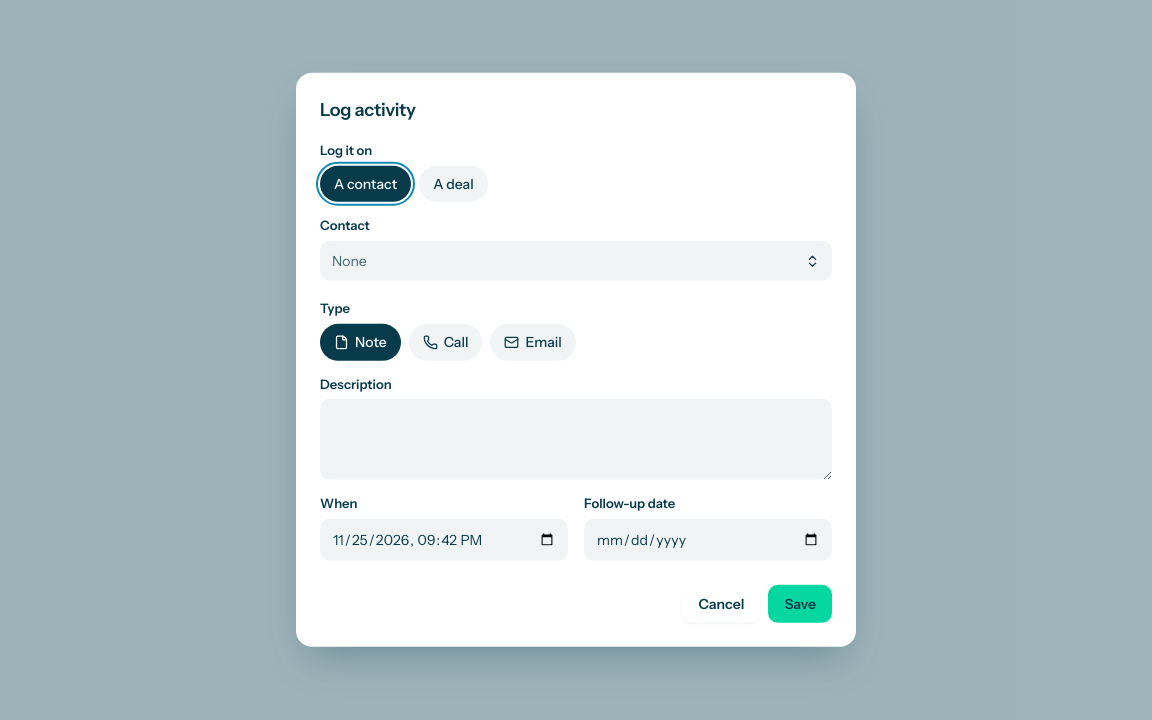
Test case: logging an activity from the dashboard › logs it on the chosen contact and closes
Step 1. Click the button "Save" → (800,604), box [768,585,832,623]
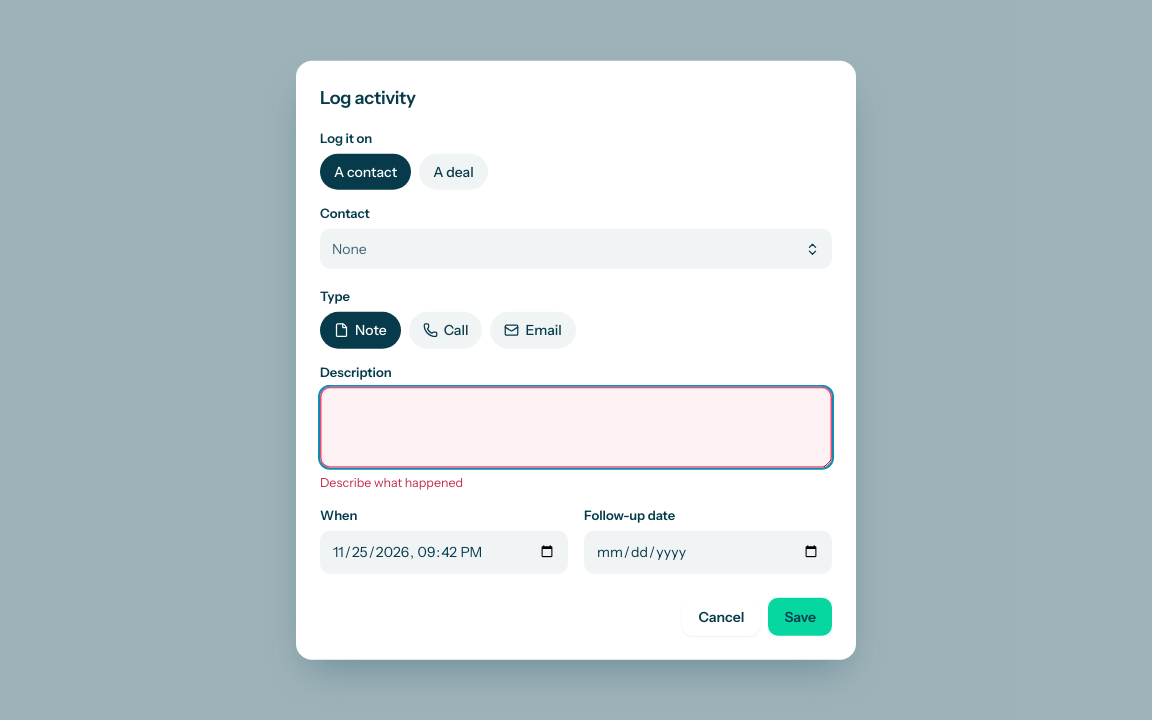
Step 2. Click the button named "Contact" → (349,249), box [320,229,832,269]
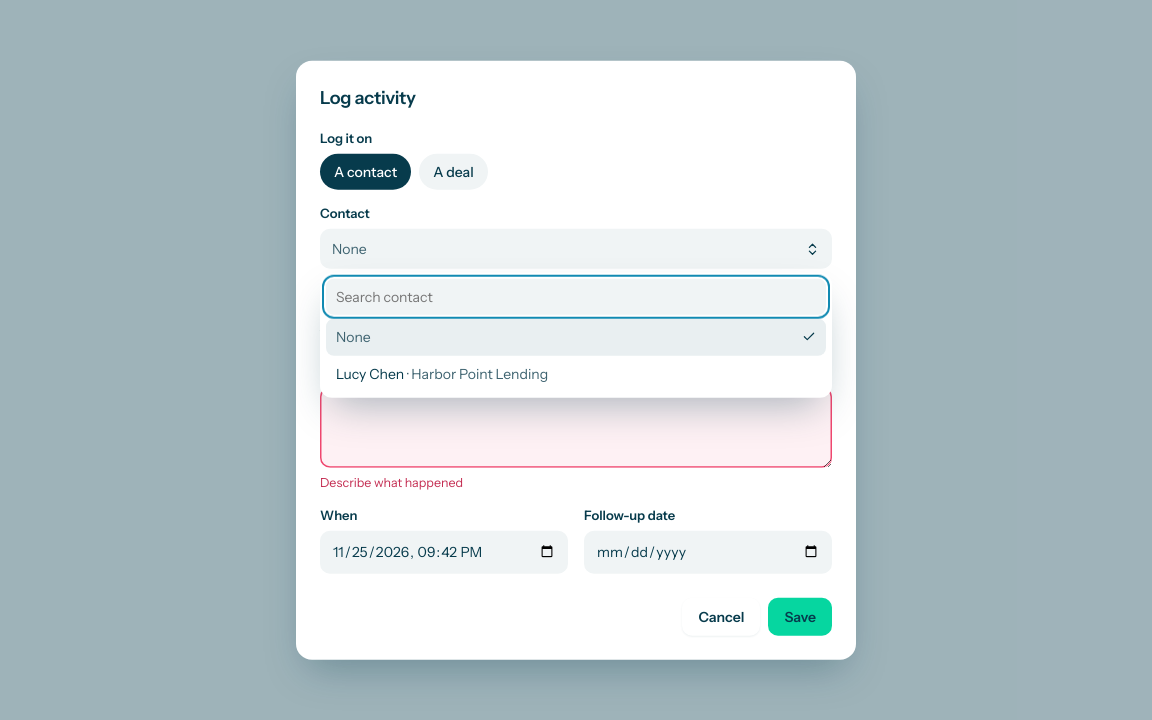
Step 3. Click the option "Lucy Chen · Harbor Point Lending" → (442,373), box [336,364,548,382]
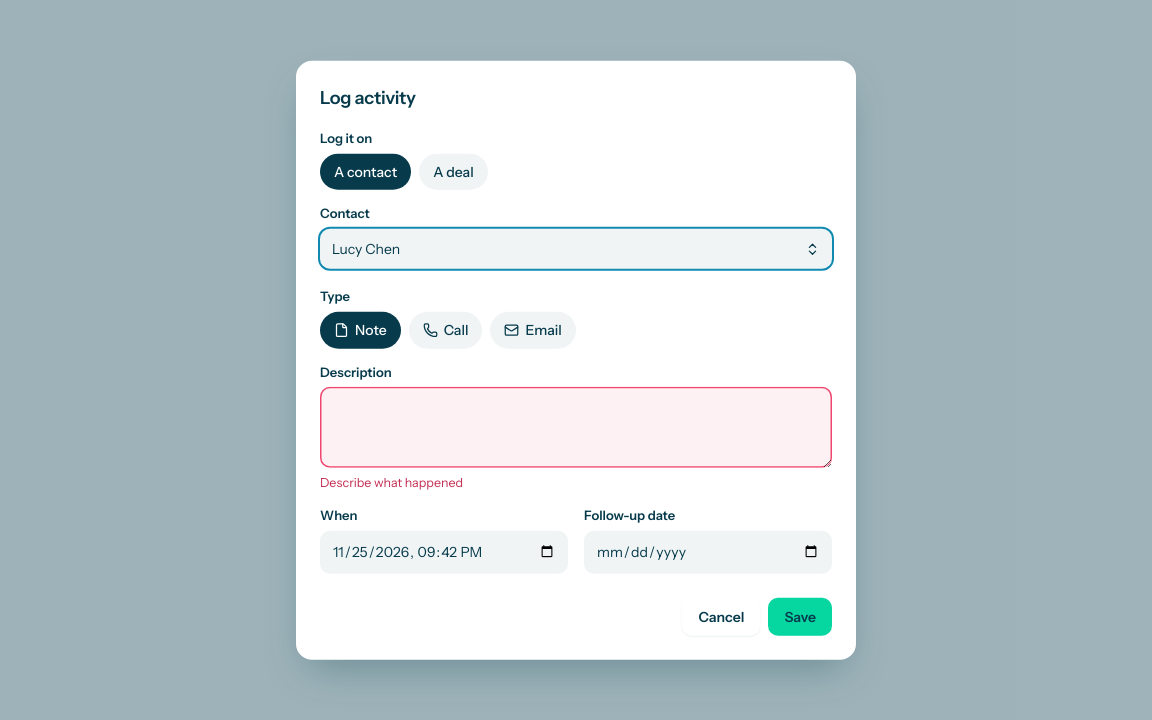
Step 4. Type "Coffee meeting" into the text box labelled "Description" → (576,428), box [320,387,832,468]
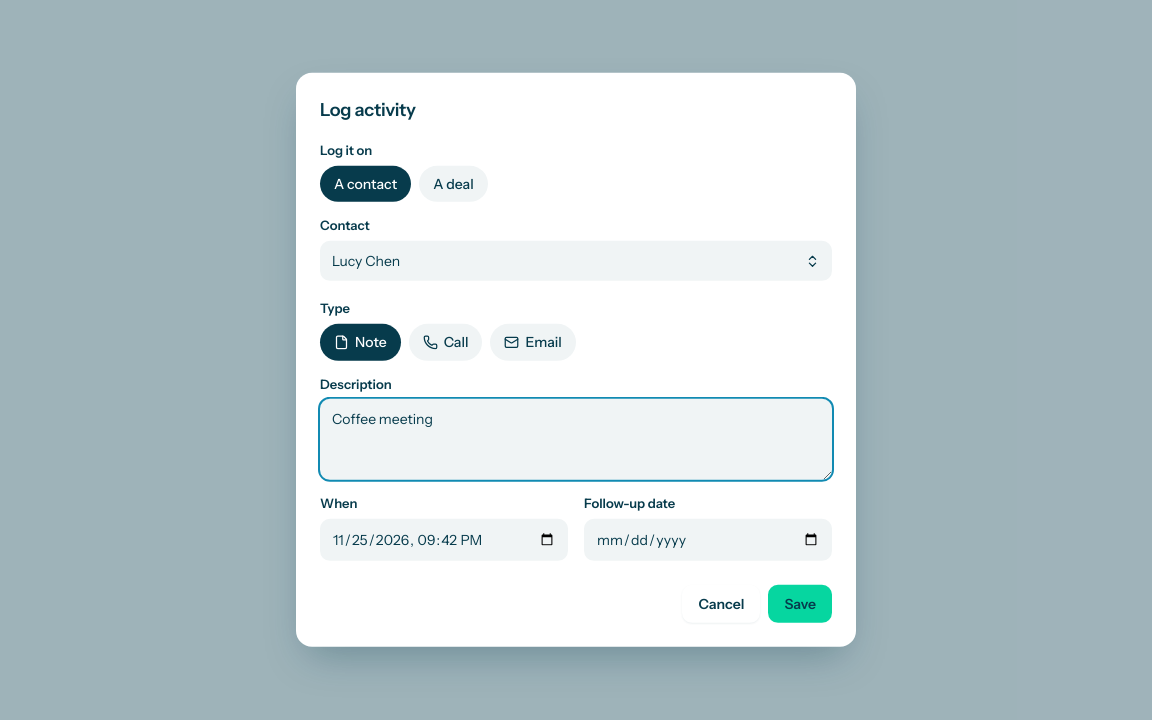
Step 5. Click the button "Save" → (800,604), box [768,585,832,623]
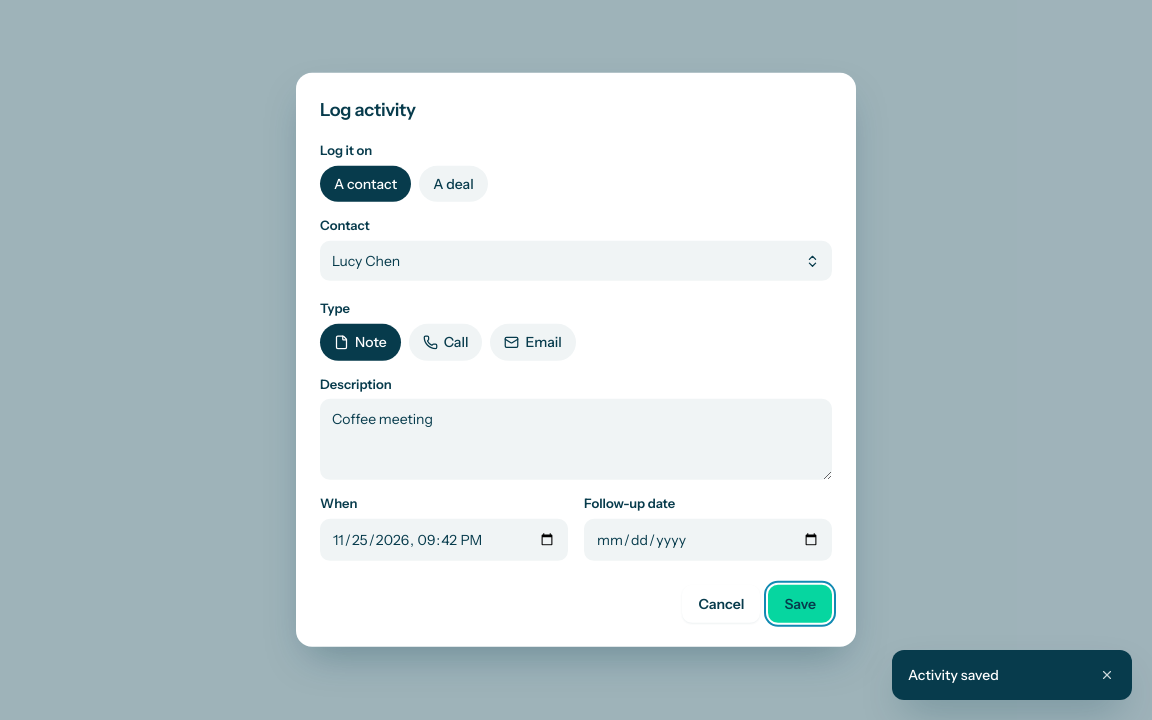
Expected: the text "Activity saved" is shown, [908,666,999,684]
